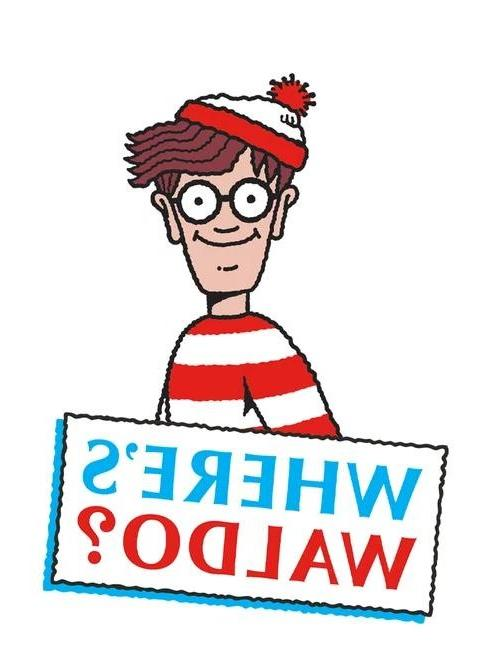waldos: (124, 73, 343, 440)
